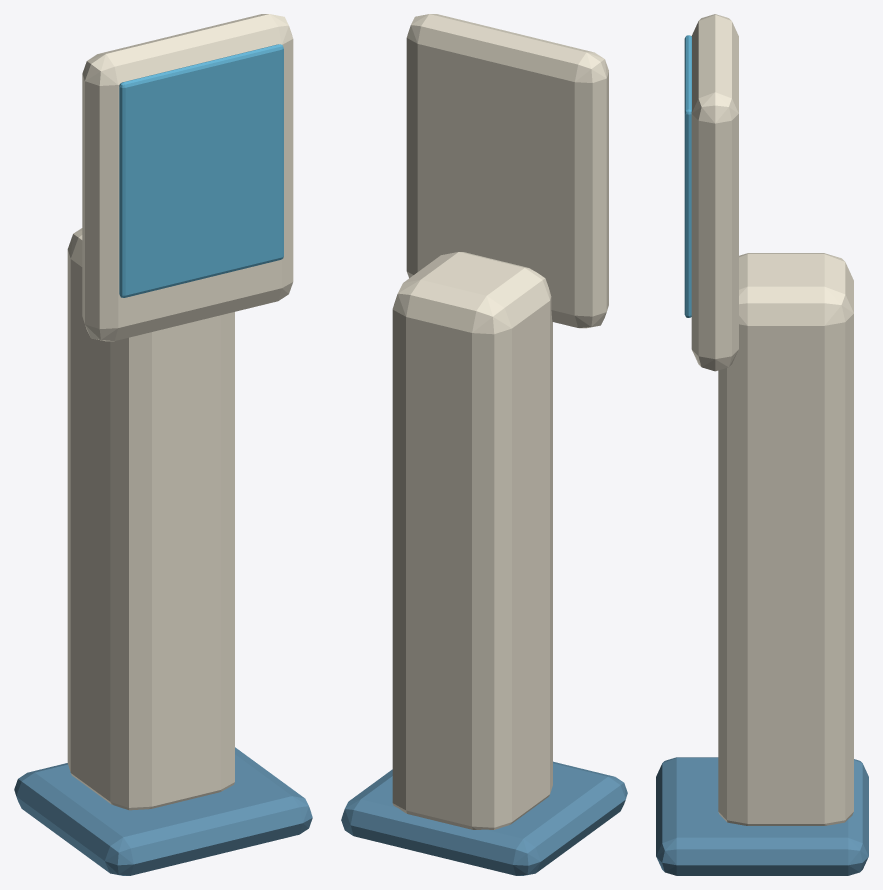
File: lobby_T3_check_in_kiosk.glb
The picture shows the model from 3 angles, left to right: view 1: azimuth 30°, elevation 25°; view 2: azimuth 150°, elevation 25°; view 3: azimuth 270°, elevation 25°; orthographic projection. The views are drawn at different scales.
Visible parts, largest first — view 1: lobby_T3_check_in_kiosk__Static_Assembly; view 2: lobby_T3_check_in_kiosk__Static_Assembly; view 3: lobby_T3_check_in_kiosk__Static_Assembly.
Boxes of the visible parts, x1,y1,x2,y2 form: lobby_T3_check_in_kiosk__Static_Assembly: [14, 14, 312, 875]; lobby_T3_check_in_kiosk__Static_Assembly: [341, 14, 627, 875]; lobby_T3_check_in_kiosk__Static_Assembly: [656, 14, 868, 875].
Size of the model in its own units: 0.39 by 1.46 by 0.36.
